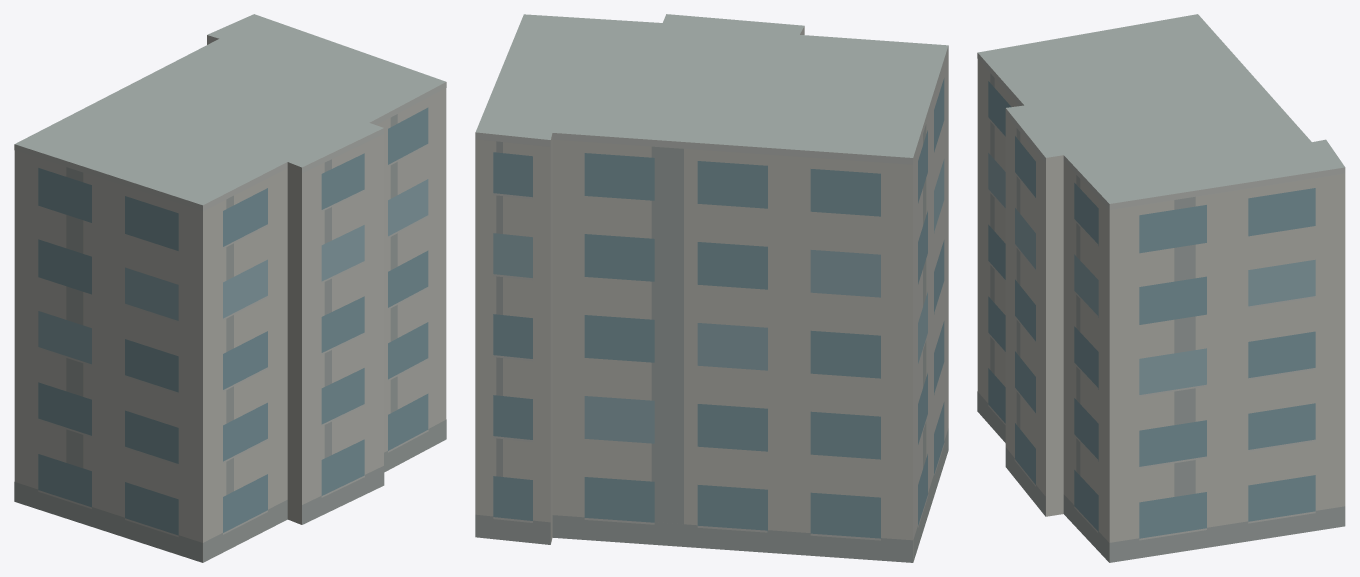
File: survey-upis-32982225.glb
3 views of the same model, side by side, from view 1: azimuth 30°, elevation 25°; view 2: azimuth 150°, elevation 25°; view 3: azimuth 270°, elevation 25° (orthographic). The views are drawn at different scales.
Parts seen in each view (by area): view 1: survey-upis-32982225.tmp; view 2: survey-upis-32982225.tmp; view 3: survey-upis-32982225.tmp.
Boxes of the visible parts, left/top/right/bottom form: survey-upis-32982225.tmp: left=14, top=14, right=446, bottom=562; survey-upis-32982225.tmp: left=475, top=14, right=948, bottom=562; survey-upis-32982225.tmp: left=977, top=14, right=1345, bottom=562.
Size of the model in its own units: 16.36 by 14.4 by 13.39.
